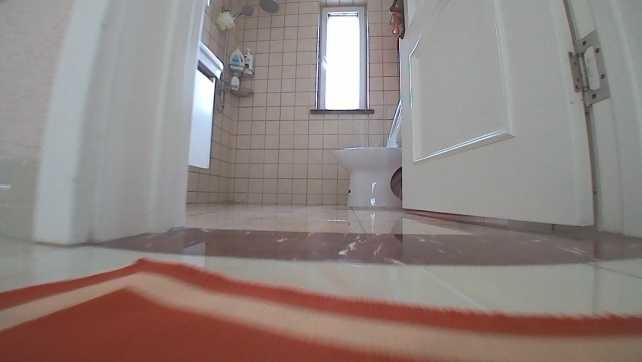blanket: (0, 251, 641, 362)
door_anno: (383, 0, 597, 230)
toilet: (331, 99, 402, 209)
